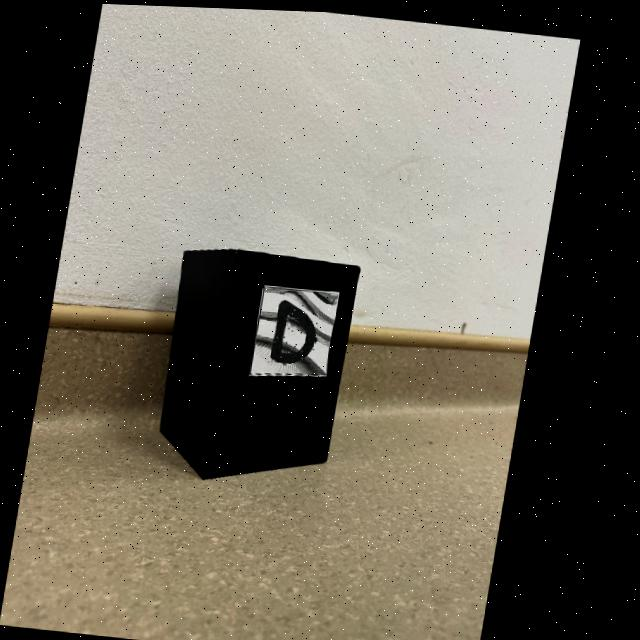D: (278, 298, 322, 361)
